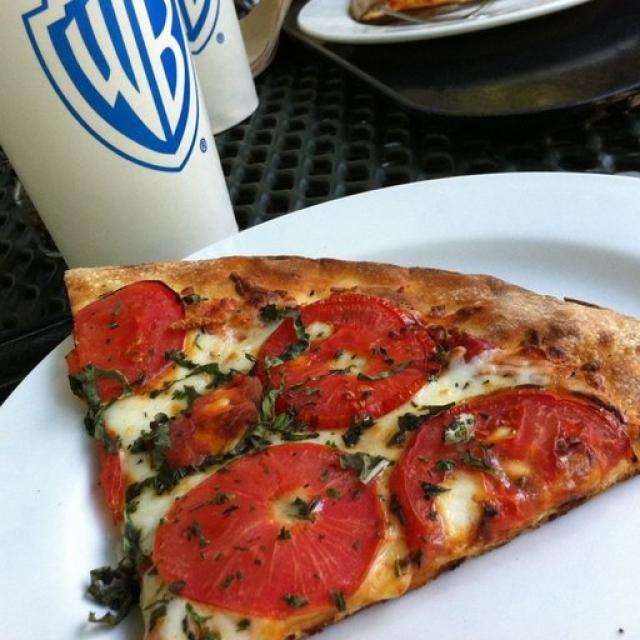Pizza: (64, 256, 640, 640)
Tomato: (161, 438, 381, 620), (396, 385, 626, 548), (260, 292, 428, 414), (70, 282, 188, 389), (174, 379, 260, 460)
